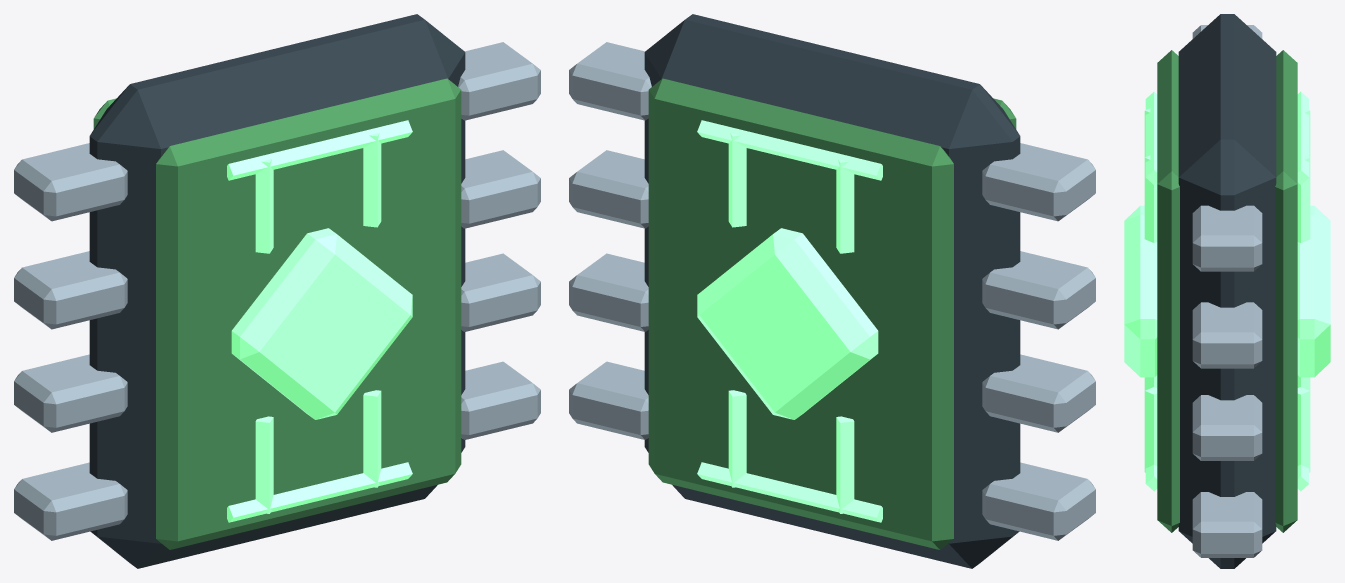
The model's file is loot_alien_chips.glb.
The picture shows the model from 3 angles, left to right: view 1: azimuth 30°, elevation 25°; view 2: azimuth 150°, elevation 25°; view 3: azimuth 270°, elevation 25°; orthographic projection. The views are drawn at different scales.
Parts seen in each view (by area): view 1: loot_alien_chips; view 2: loot_alien_chips; view 3: loot_alien_chips.
Boxes of the visible parts, left/top/right/bottom form: loot_alien_chips: left=14, top=14, right=540, bottom=568; loot_alien_chips: left=569, top=14, right=1095, bottom=568; loot_alien_chips: left=1124, top=14, right=1330, bottom=568.
Bounding box in the file's own units: 0.7987 × 0.7353 × 0.3201.
